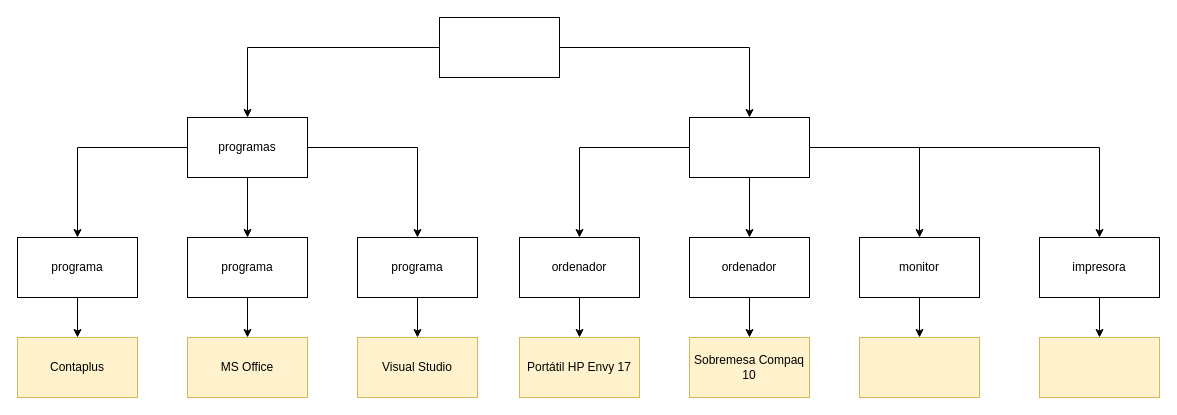
Image size: 1177x415. Some labels were removed from this diagram. The shapes that lost their labels are listed below. From the top down, each one's centre as x and y in pixels, then its label:
At point 499,47: "inventario".
At point 749,147: "hardware".
At point 919,367: "Monitor Acer".
At point 1099,367: "Impresora Brother".
